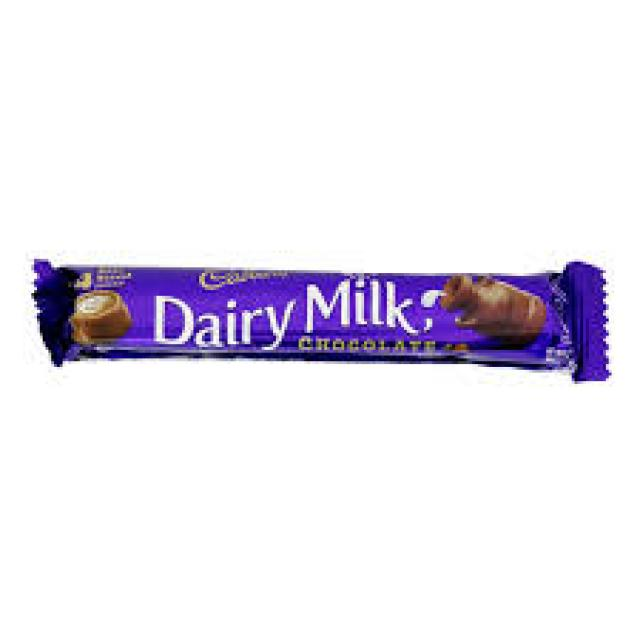cadbury: (29, 258, 612, 386)
